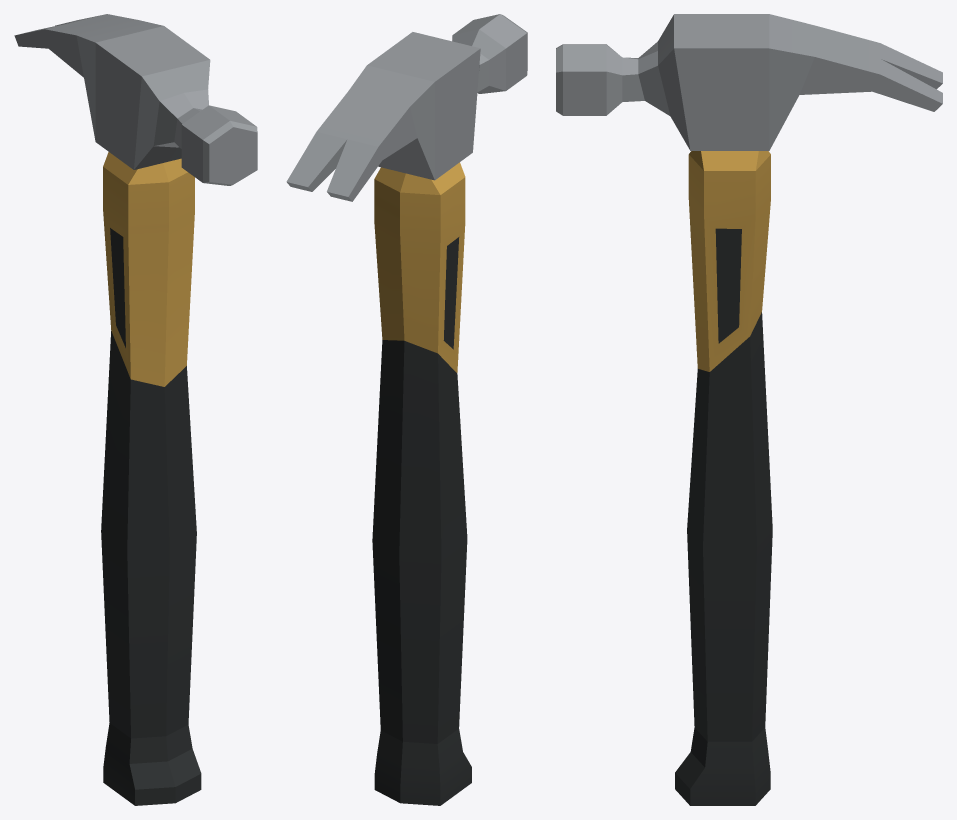
Rendered from SM_Item_Hammer_01.obj.
3 views of the same model, side by side, from view 1: azimuth 30°, elevation 25°; view 2: azimuth 150°, elevation 25°; view 3: azimuth 270°, elevation 25° (orthographic). The views are drawn at different scales.
Parts seen in each view (by area): view 1: SM_Item_Hammer_01_0; view 2: SM_Item_Hammer_01_0; view 3: SM_Item_Hammer_01_0.
Boxes of the visible parts, x1,y1,x2,y2 form: SM_Item_Hammer_01_0: [14, 14, 257, 805]; SM_Item_Hammer_01_0: [286, 14, 527, 805]; SM_Item_Hammer_01_0: [556, 14, 942, 805].
Size of the model in its own units: 0.0328 by 0.3311 by 0.1532.
1 material, 1 textured.
